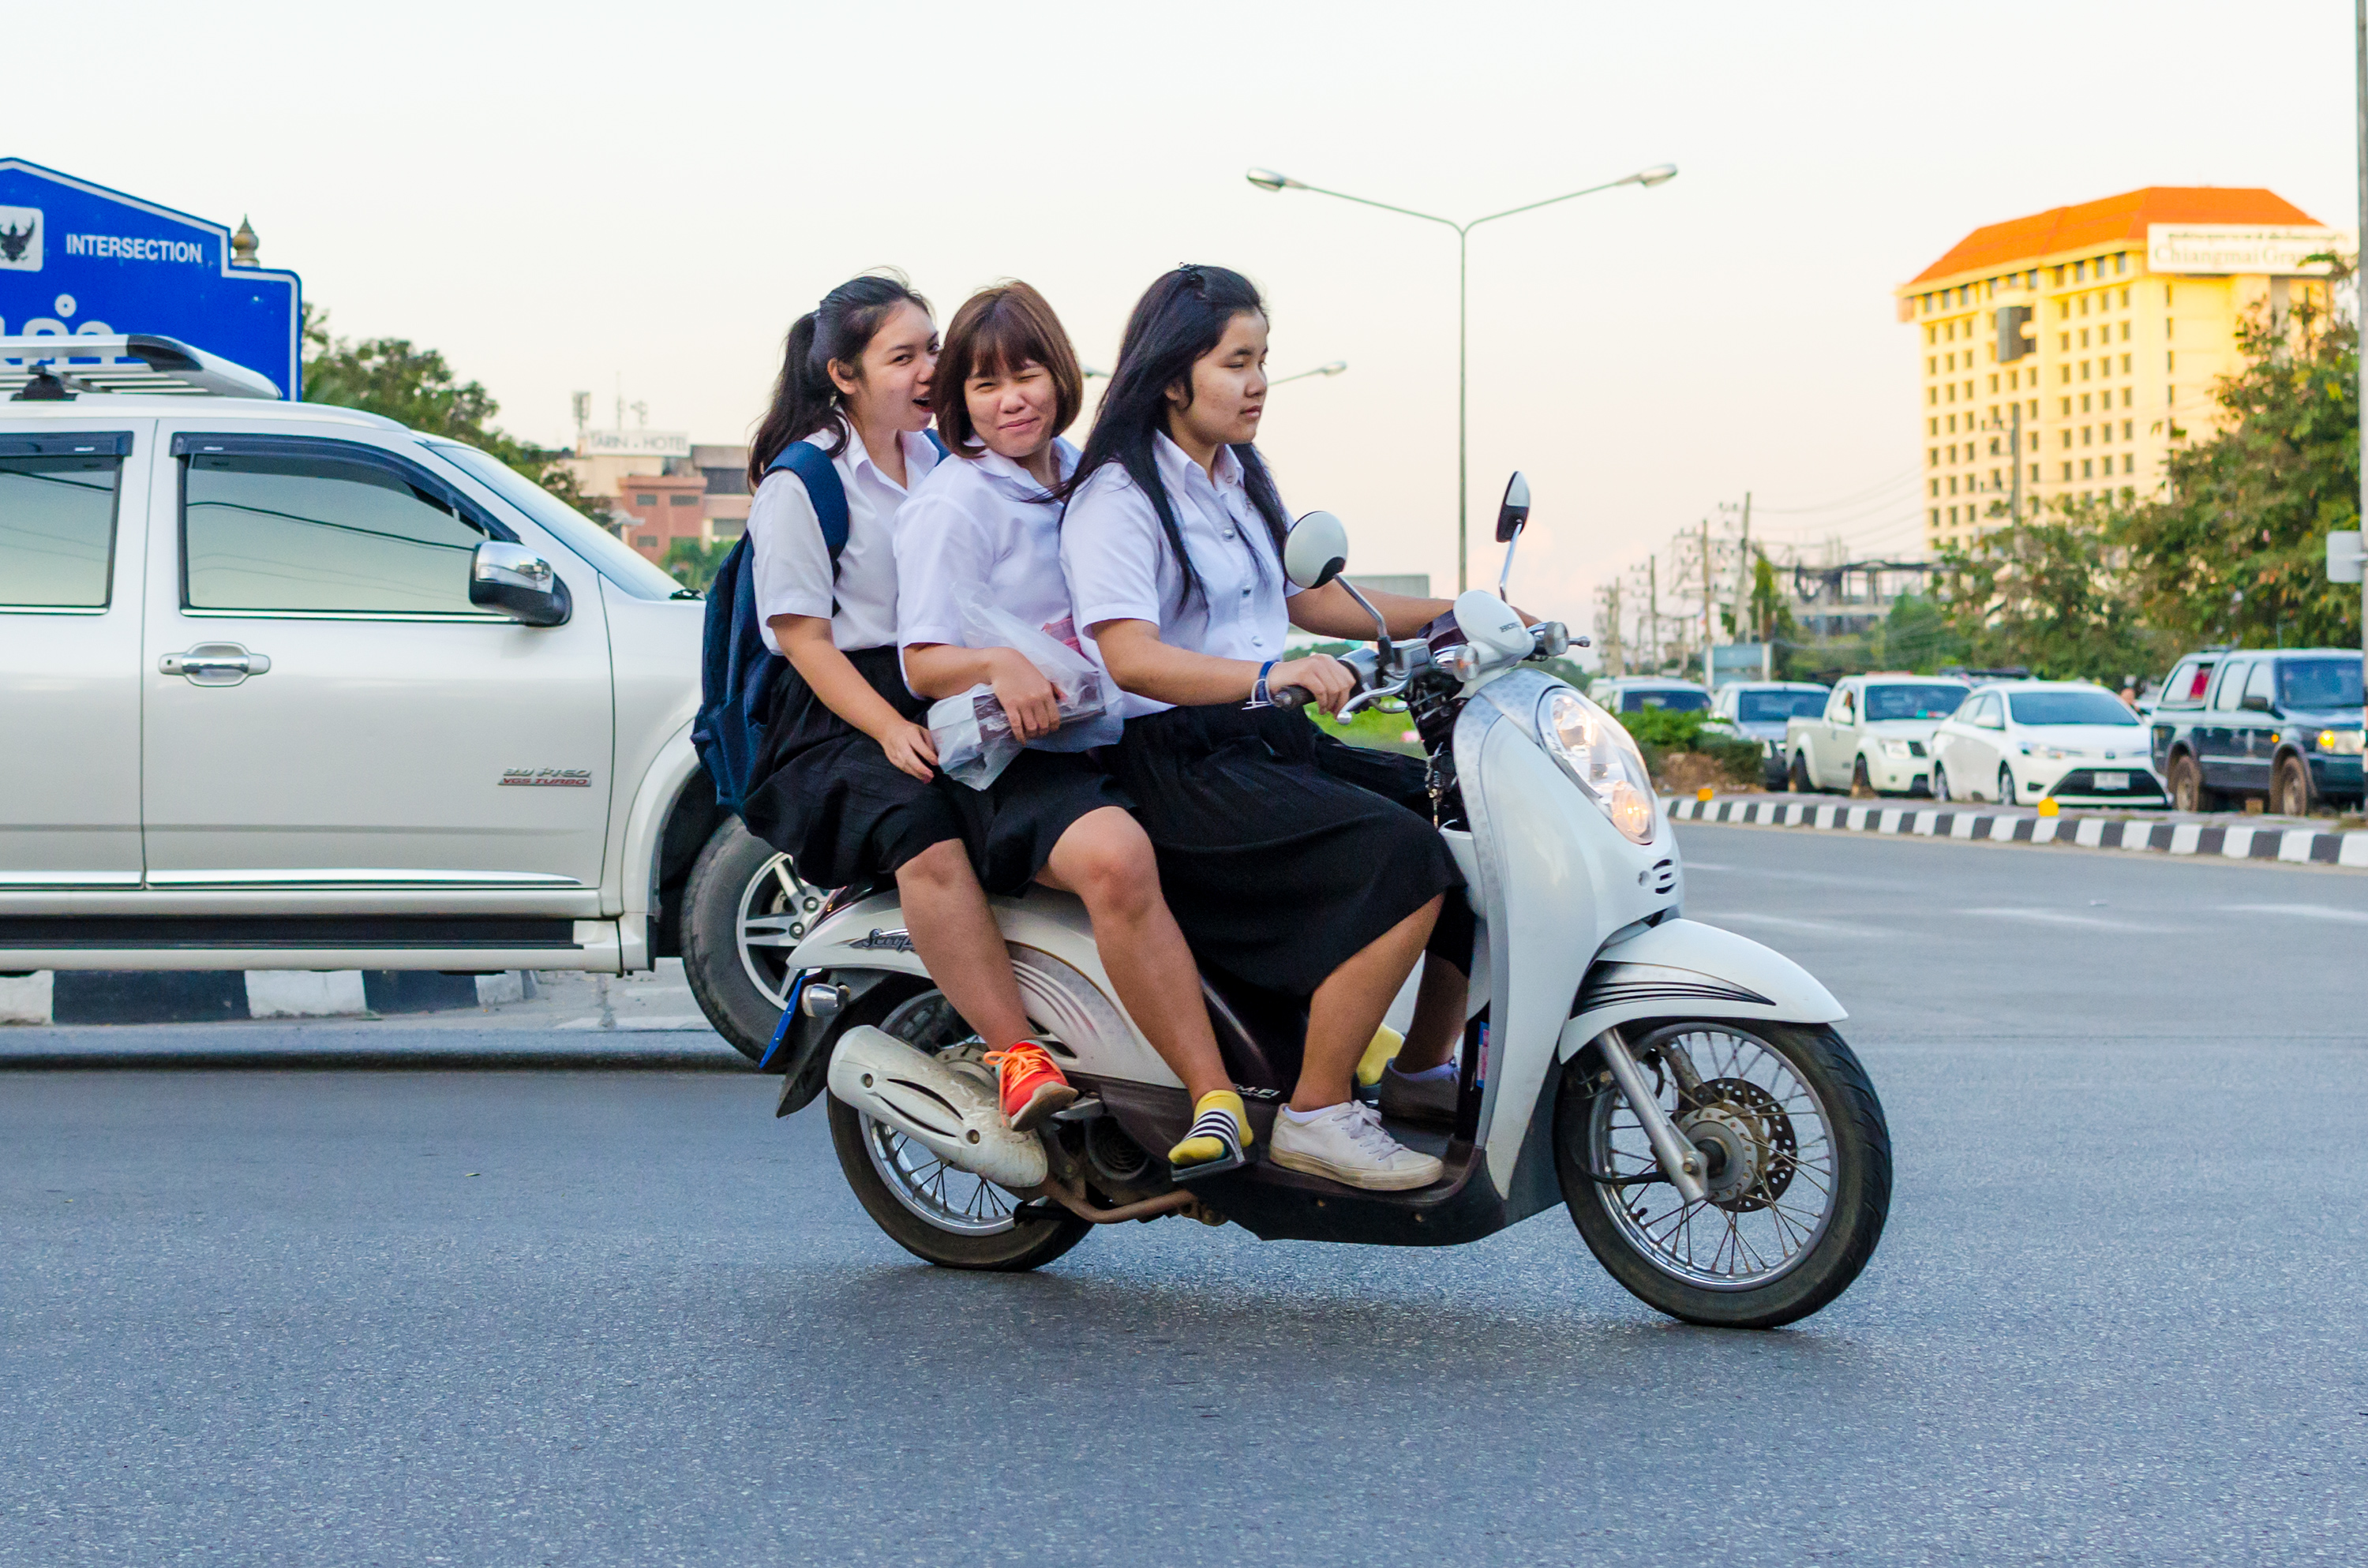bike: (810, 600, 1896, 1319)
car: (1, 400, 739, 1041), (2161, 655, 2368, 816), (1936, 683, 2160, 813), (1785, 674, 1931, 782)
person: (1073, 271, 1427, 1022), (752, 276, 1034, 1102), (921, 287, 1184, 1031)
